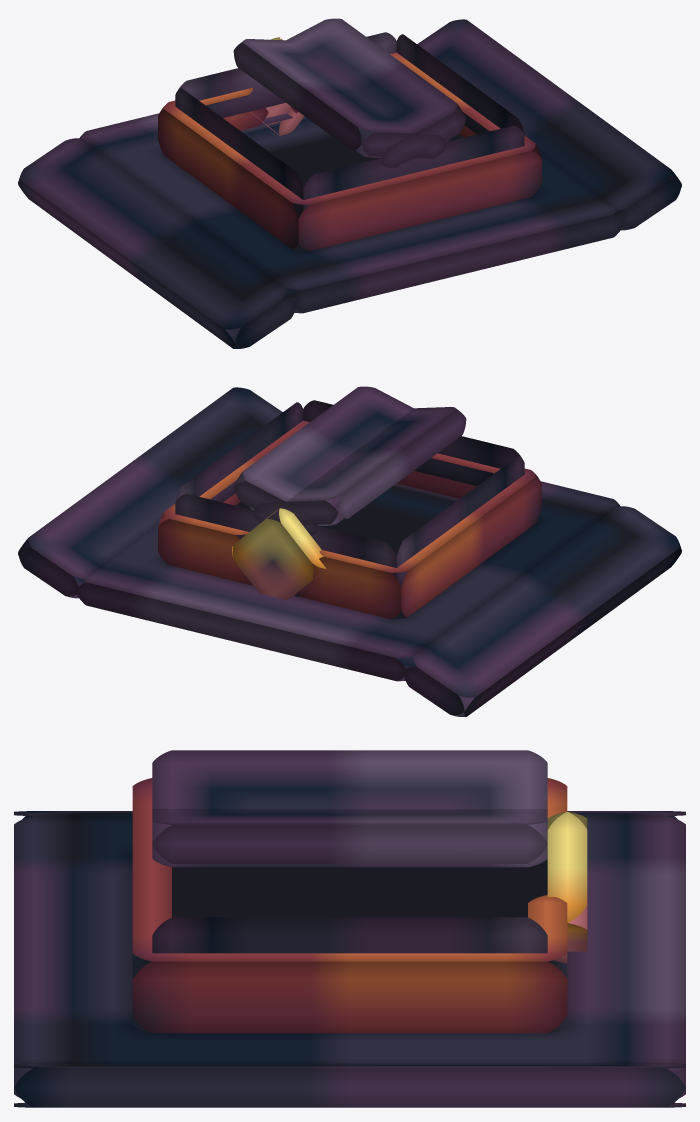
Rendered from duelist_armor_helmet.obj.
3 views of the same model, one above another, from view 1: azimuth 30°, elevation 25°; view 2: azimuth 150°, elevation 25°; view 3: azimuth 270°, elevation 25° (orthographic). The views are drawn at different scales.
Visible parts, largest first — view 1: element_5, element_7, element_3, element_6, element_2, element_1, element_0, element_4; view 2: element_5, element_7, element_3, element_6, element_2, element_1, element_0, element_4; view 3: element_5, element_3, element_6, element_0, element_1, element_2, element_4, element_7.
Part boxes in pixels (x1,y1,x2,y2): element_5: (79, 113, 624, 313); element_7: (18, 138, 296, 348); element_3: (158, 52, 541, 250); element_6: (417, 19, 681, 230); element_2: (175, 32, 524, 217); element_1: (286, 18, 466, 168); element_0: (233, 39, 446, 158); element_4: (250, 37, 304, 135); element_5: (75, 481, 620, 681); element_7: (403, 506, 681, 716); element_3: (158, 420, 541, 618); element_6: (18, 387, 282, 598); element_2: (175, 400, 524, 585); element_1: (233, 386, 413, 535); element_0: (253, 407, 466, 525); element_4: (232, 508, 326, 599); element_5: (14, 816, 685, 1098); element_3: (132, 778, 567, 1033); element_6: (14, 1063, 685, 1107); element_0: (152, 750, 547, 840); element_1: (152, 809, 547, 863); element_2: (152, 840, 547, 953); element_4: (547, 811, 587, 963); element_7: (14, 811, 685, 819).
Bounding box in the file's own units: 1.28 × 0.3979 × 1.06.
